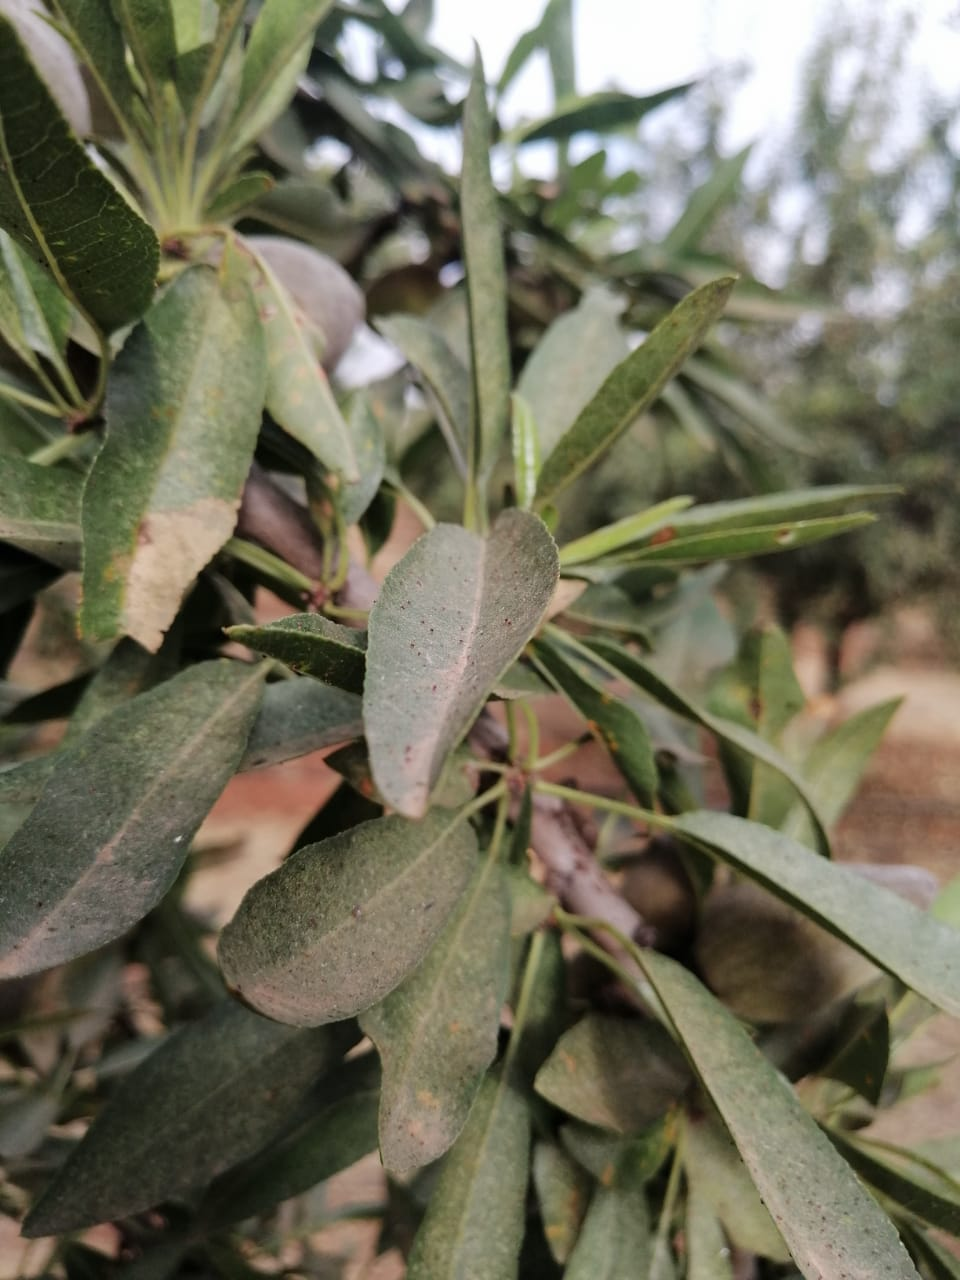acariens: (1, 657, 269, 985), (75, 237, 267, 649), (363, 507, 567, 823), (669, 807, 960, 1021), (219, 810, 480, 1033)
